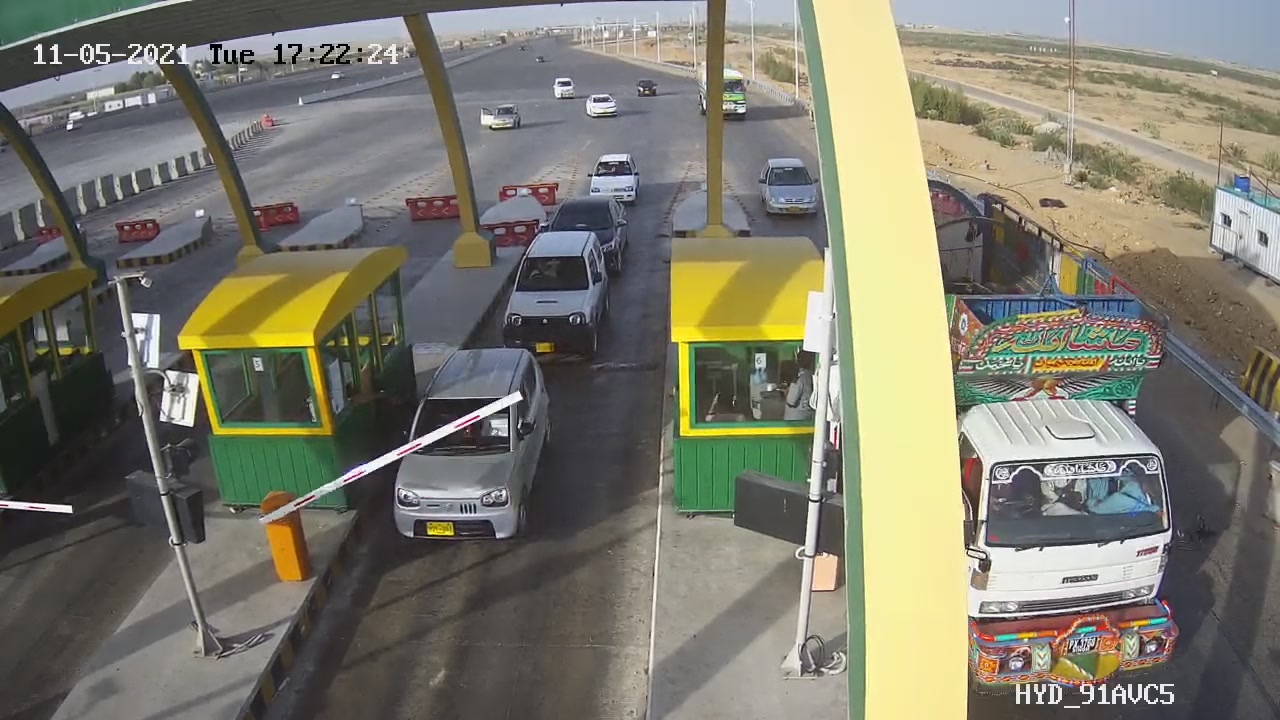F1: (376, 331, 579, 562), (492, 220, 635, 377)
